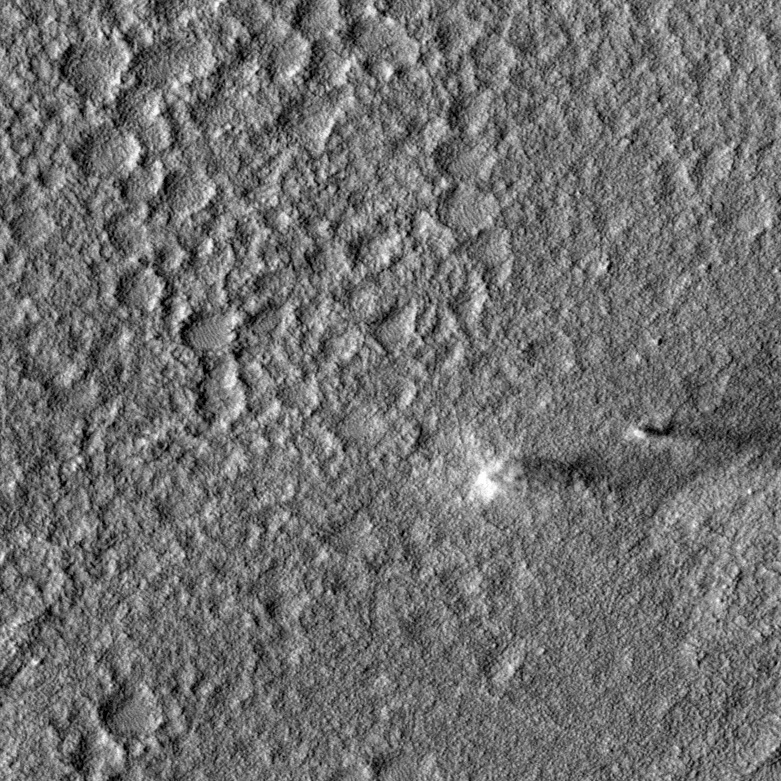dust_devil: (469, 451, 617, 506), (631, 422, 676, 440)
